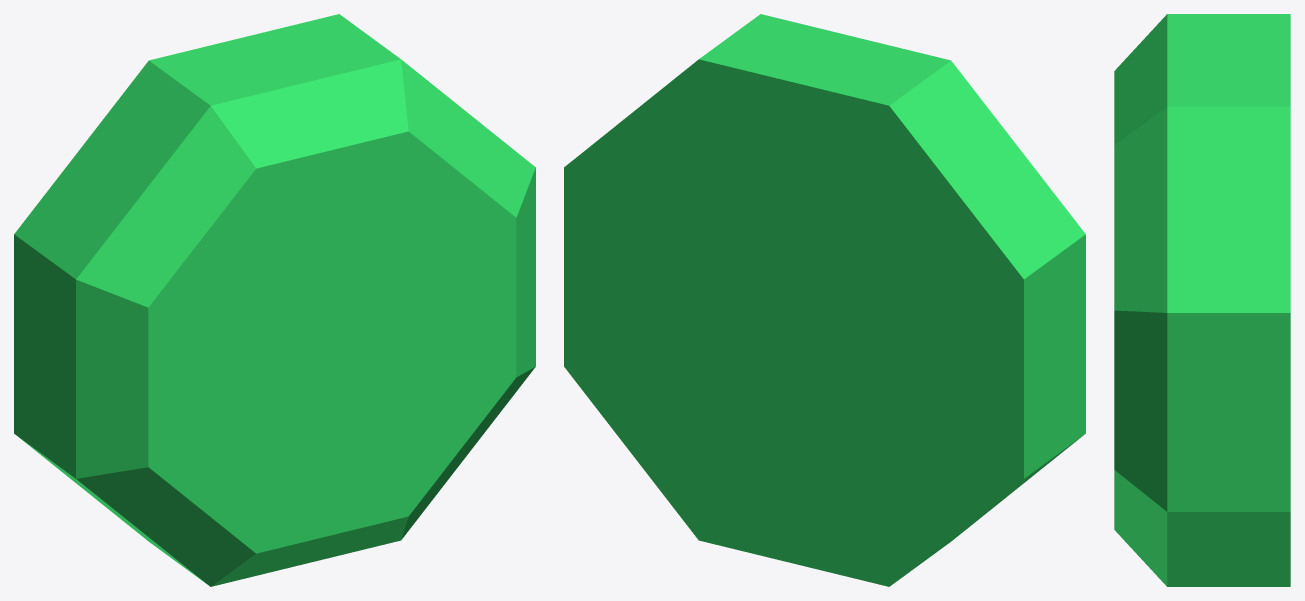
Rendered from indicator_lamp_lens.glb.
3 renders of one model, left to right at view 1: azimuth 30°, elevation 25°; view 2: azimuth 150°, elevation 25°; view 3: azimuth 270°, elevation 25°, orthographic.
Parts seen in each view (by area): view 1: IndicatorLampLens; view 2: IndicatorLampLens; view 3: IndicatorLampLens.
Boxes of the visible parts, x1=… form: IndicatorLampLens: x1=14, y1=14, x2=535, y2=586; IndicatorLampLens: x1=564, y1=14, x2=1085, y2=586; IndicatorLampLens: x1=1114, y1=14, x2=1290, y2=586.
Bounding box in the file's own units: 0.012 × 0.012 × 0.004.
